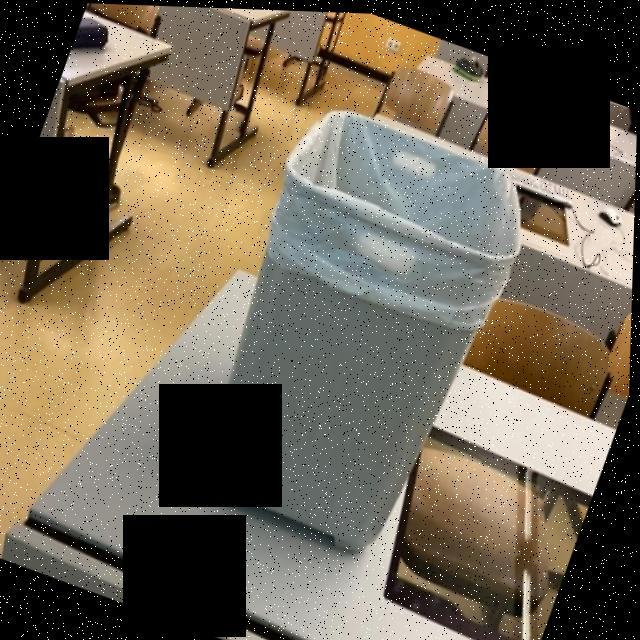bin: (141, 26, 581, 602)
